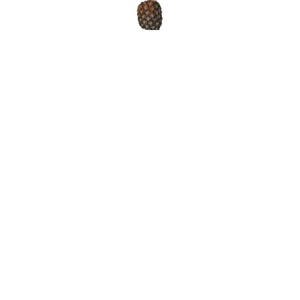abacaxi: (130, 1, 165, 34)
